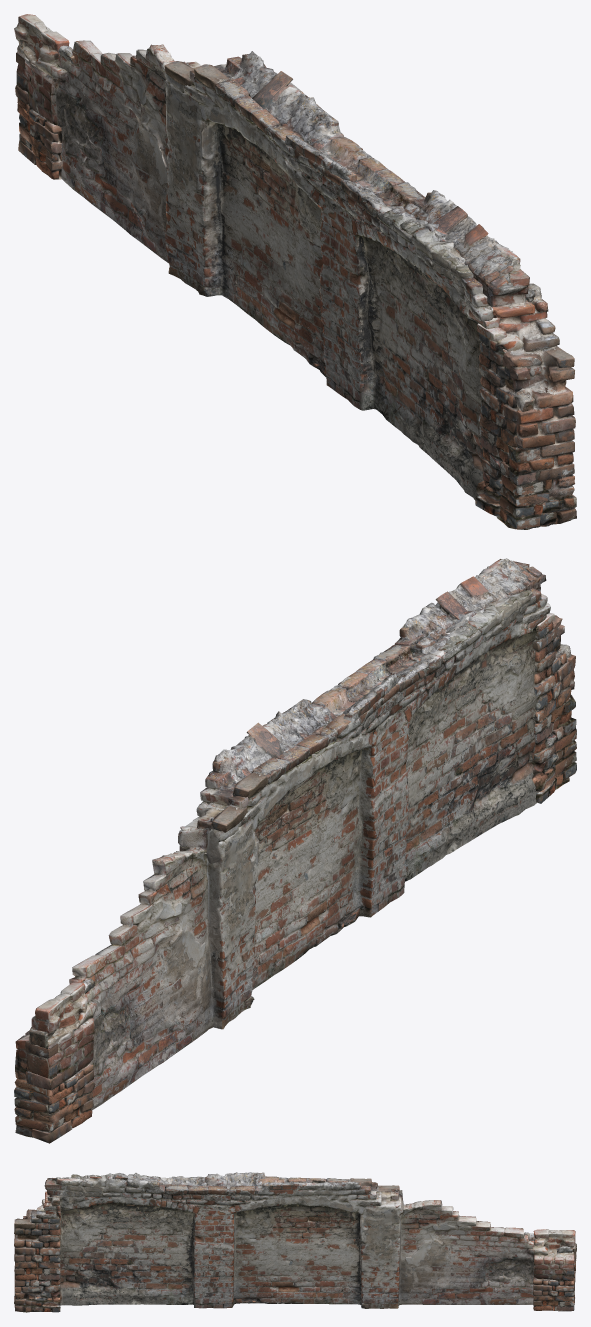
The model's file is sm_Wall_02_01.fbx.
The picture shows the model from 3 angles, top to bottom: view 1: azimuth 30°, elevation 25°; view 2: azimuth 150°, elevation 25°; view 3: azimuth 270°, elevation 25°; orthographic projection. The views are drawn at different scales.
Visible parts, largest first — view 1: sm_Wall_02_01_LOD0; view 2: sm_Wall_02_01_LOD0; view 3: sm_Wall_02_01_LOD0.
Part boxes in pixels (x1,y1,x2,y2): sm_Wall_02_01_LOD0: [14, 14, 576, 529]; sm_Wall_02_01_LOD0: [14, 558, 576, 1143]; sm_Wall_02_01_LOD0: [14, 1172, 576, 1312].
Bounding box in the file's own units: 43.82 × 600 × 155.
